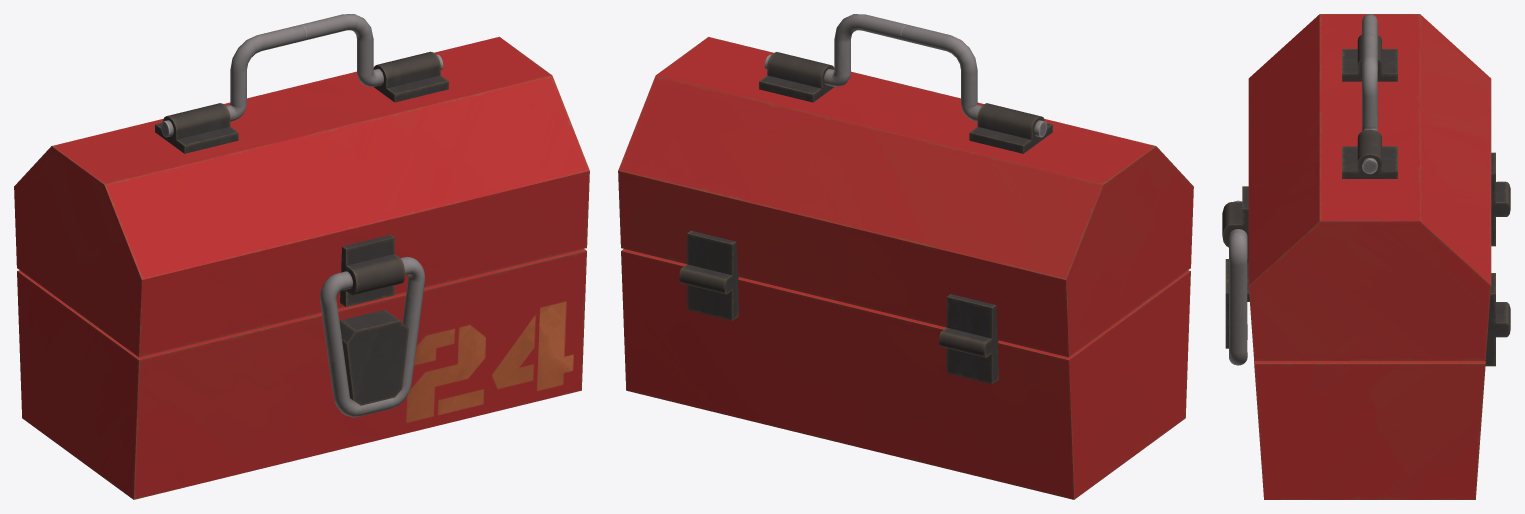
The model's file is team_fortress_2_engineer_toolbox.glb.
3 views of the same model, side by side, from view 1: azimuth 30°, elevation 25°; view 2: azimuth 150°, elevation 25°; view 3: azimuth 270°, elevation 25° (orthographic). The views are drawn at different scales.
Parts seen in each view (by area): view 1: Solid_317_low, Solid_375_low, Solid_357_low, Pipe.002_low, Solid_339_low, Solid_338_low, Solid_360_low, Pipe.001_low, Solid_361_low; view 2: Solid_317_low, Solid_375_low, Solid_364_low, Solid_362_low, Solid_338_low, Solid_360_low, Pipe.001_low, Solid_361_low; view 3: Solid_317_low, Solid_375_low, Pipe.002_low, Solid_360_low, Solid_361_low, Solid_338_low, Solid_362_low, Solid_339_low, Solid_364_low, Solid_357_low, Pipe.001_low.
Part boxes in pixels (box(x1,y1,x2,y2)): Solid_317_low: box(14, 37, 589, 357); Solid_375_low: box(17, 249, 586, 499); Solid_357_low: box(339, 309, 408, 405); Pipe.002_low: box(320, 256, 424, 417); Solid_339_low: box(340, 234, 405, 307); Solid_338_low: box(155, 103, 238, 153); Solid_360_low: box(373, 51, 448, 102); Pipe.001_low: box(160, 24, 305, 137); Solid_361_low: box(301, 14, 443, 86); Solid_317_low: box(618, 37, 1193, 357); Solid_375_low: box(621, 249, 1190, 499); Solid_364_low: box(939, 294, 998, 384); Solid_362_low: box(679, 230, 738, 320); Solid_338_low: box(969, 103, 1052, 153); Solid_360_low: box(759, 52, 834, 102); Pipe.001_low: box(902, 25, 1047, 137); Solid_361_low: box(764, 14, 907, 86); Solid_317_low: box(1248, 14, 1491, 360); Solid_375_low: box(1254, 361, 1485, 499); Pipe.002_low: box(1229, 200, 1247, 365); Solid_360_low: box(1342, 129, 1397, 178); Solid_361_low: box(1362, 36, 1377, 174); Solid_338_low: box(1342, 34, 1397, 81); Solid_362_low: box(1485, 273, 1510, 366); Solid_339_low: box(1222, 186, 1248, 263); Solid_364_low: box(1491, 152, 1510, 246); Solid_357_low: box(1225, 259, 1249, 348); Pipe.001_low: box(1362, 14, 1377, 70).
Size of the model in its own units: 0.0176 by 0.0142 by 0.0103.
1 material, 1 textured.
